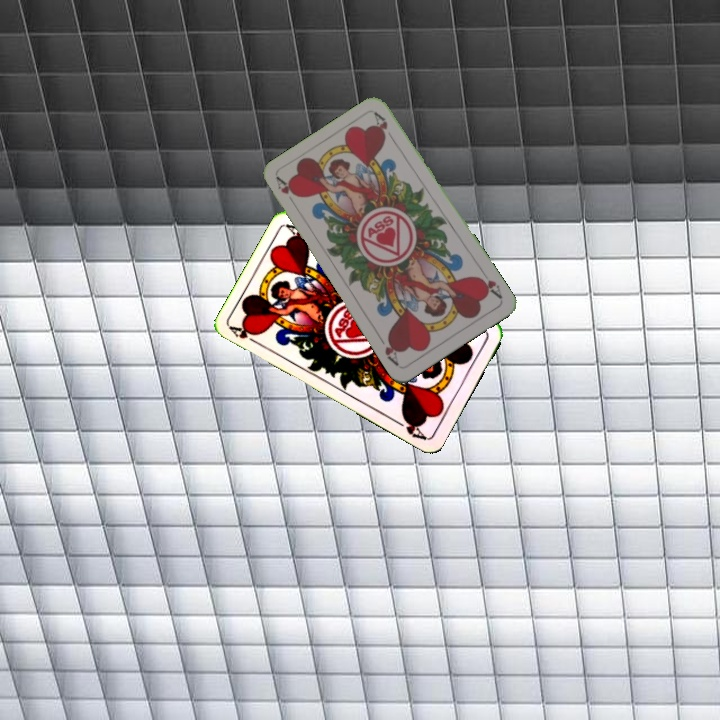HA: (474, 266, 505, 302), (272, 173, 300, 210), (227, 322, 264, 349)
